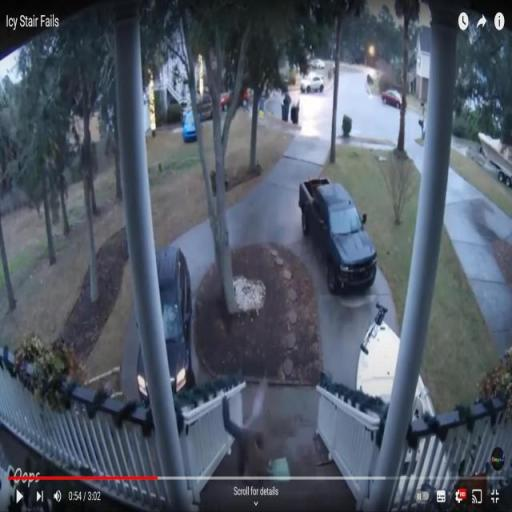Fall: (219, 390, 276, 482)
